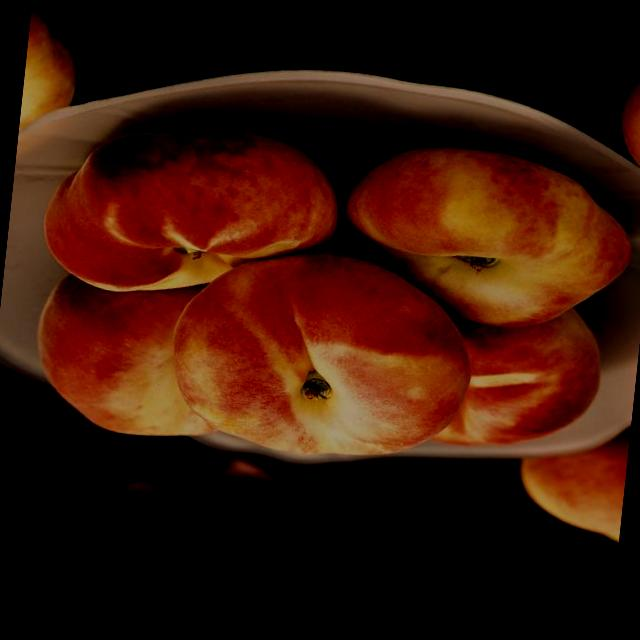Apple: (162, 238, 483, 472), (38, 110, 348, 315), (331, 135, 640, 340), (27, 268, 233, 445), (428, 293, 608, 460), (507, 420, 627, 546), (18, 5, 85, 144), (610, 52, 640, 180)
